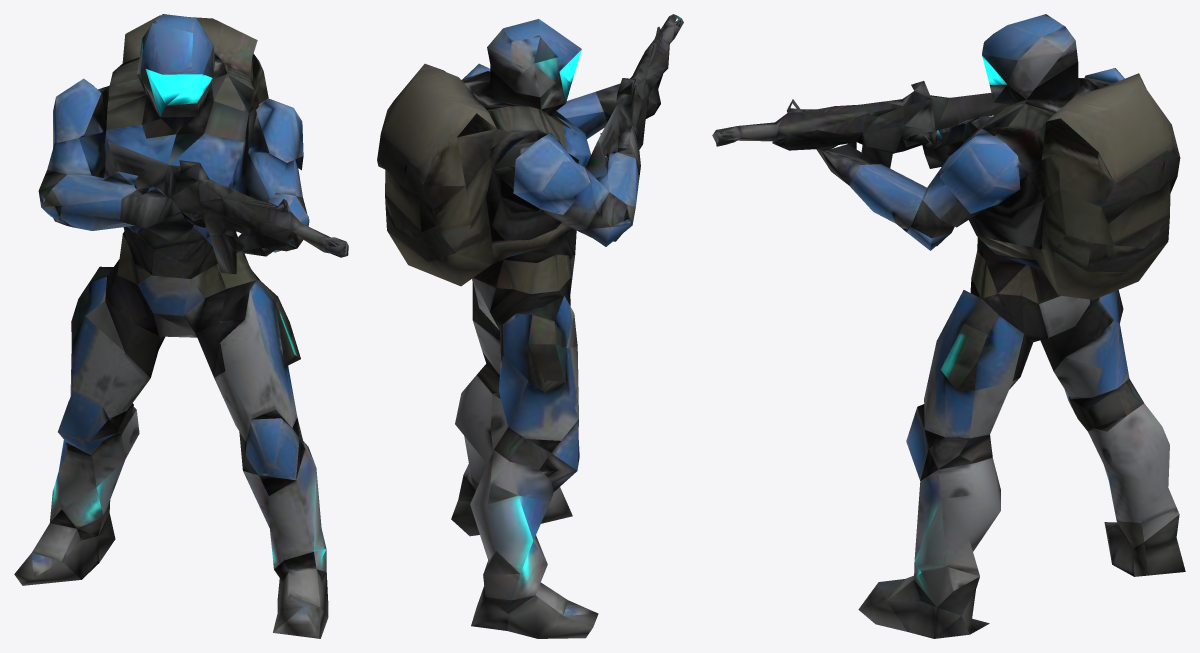
The model's file is unit_rifle_b.glb.
3 renders of one model, left to right at view 1: azimuth 30°, elevation 25°; view 2: azimuth 150°, elevation 25°; view 3: azimuth 270°, elevation 25°, orthographic. The views are drawn at different scales.
Parts seen in each view (by area): view 1: unit_rifle_b; view 2: unit_rifle_b; view 3: unit_rifle_b.
Boxes of the visible parts, x1,y1,x2,y2 form: unit_rifle_b: [14, 14, 348, 638]; unit_rifle_b: [377, 14, 683, 638]; unit_rifle_b: [712, 14, 1185, 638].
Bounding box in the file's own units: 0.4387 × 1 × 0.7526.
1 material, 1 textured.
